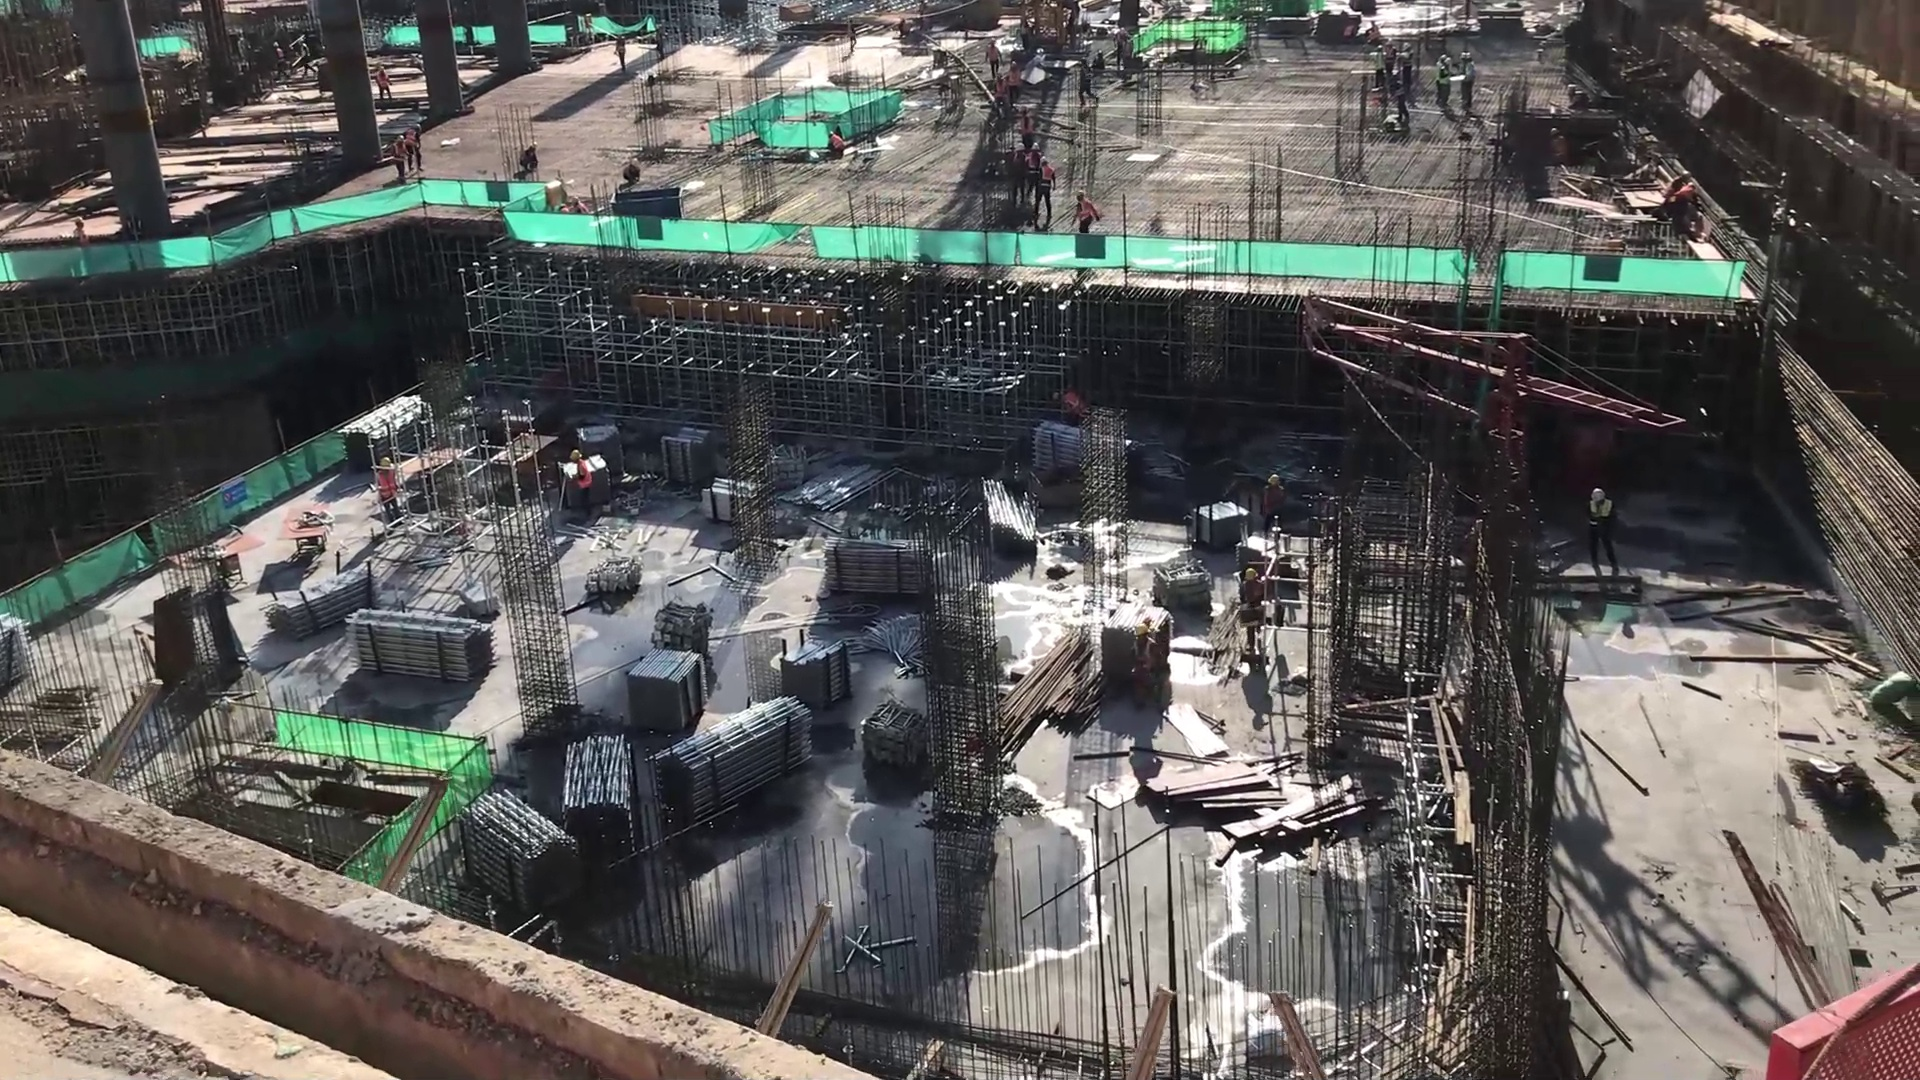board: (1216, 775, 1367, 851), (1143, 751, 1273, 816)
helmet: (1590, 489, 1606, 502), (568, 449, 583, 460), (1245, 568, 1258, 580), (1268, 474, 1280, 485), (379, 457, 390, 466)
person: (1579, 480, 1623, 579), (1236, 565, 1268, 656), (370, 454, 405, 535), (565, 449, 599, 518), (1257, 472, 1287, 534), (1036, 158, 1057, 229), (1071, 54, 1094, 112), (1074, 188, 1099, 237), (1052, 391, 1087, 426), (1028, 140, 1045, 213), (386, 133, 408, 188), (368, 63, 396, 106), (402, 122, 425, 172), (1112, 29, 1134, 76), (1010, 143, 1026, 207), (1392, 81, 1412, 128), (1463, 50, 1478, 109), (290, 39, 312, 78), (990, 72, 1006, 127), (983, 35, 1001, 81), (1006, 57, 1022, 108), (1372, 39, 1386, 95), (1401, 40, 1414, 99), (1014, 104, 1033, 146), (517, 141, 539, 175), (840, 17, 860, 56), (270, 39, 289, 80), (1458, 50, 1471, 107), (612, 36, 630, 74), (1383, 36, 1397, 84), (1442, 60, 1456, 110), (825, 131, 846, 161), (1436, 53, 1447, 103)
rebar: (1014, 624, 1095, 752)
scaffold: (670, 696, 811, 834), (460, 784, 568, 895), (351, 603, 490, 684), (556, 737, 643, 846), (823, 534, 928, 600), (273, 571, 371, 634), (353, 396, 430, 465), (630, 640, 695, 720), (984, 478, 1041, 560), (788, 637, 845, 710), (802, 461, 875, 515), (1, 616, 31, 693)
